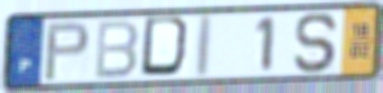1: (253, 15, 276, 73)
B: (92, 18, 141, 81)
D: (138, 15, 196, 80)
I: (192, 12, 215, 81)
P: (42, 19, 92, 83)
S: (292, 10, 340, 75)
